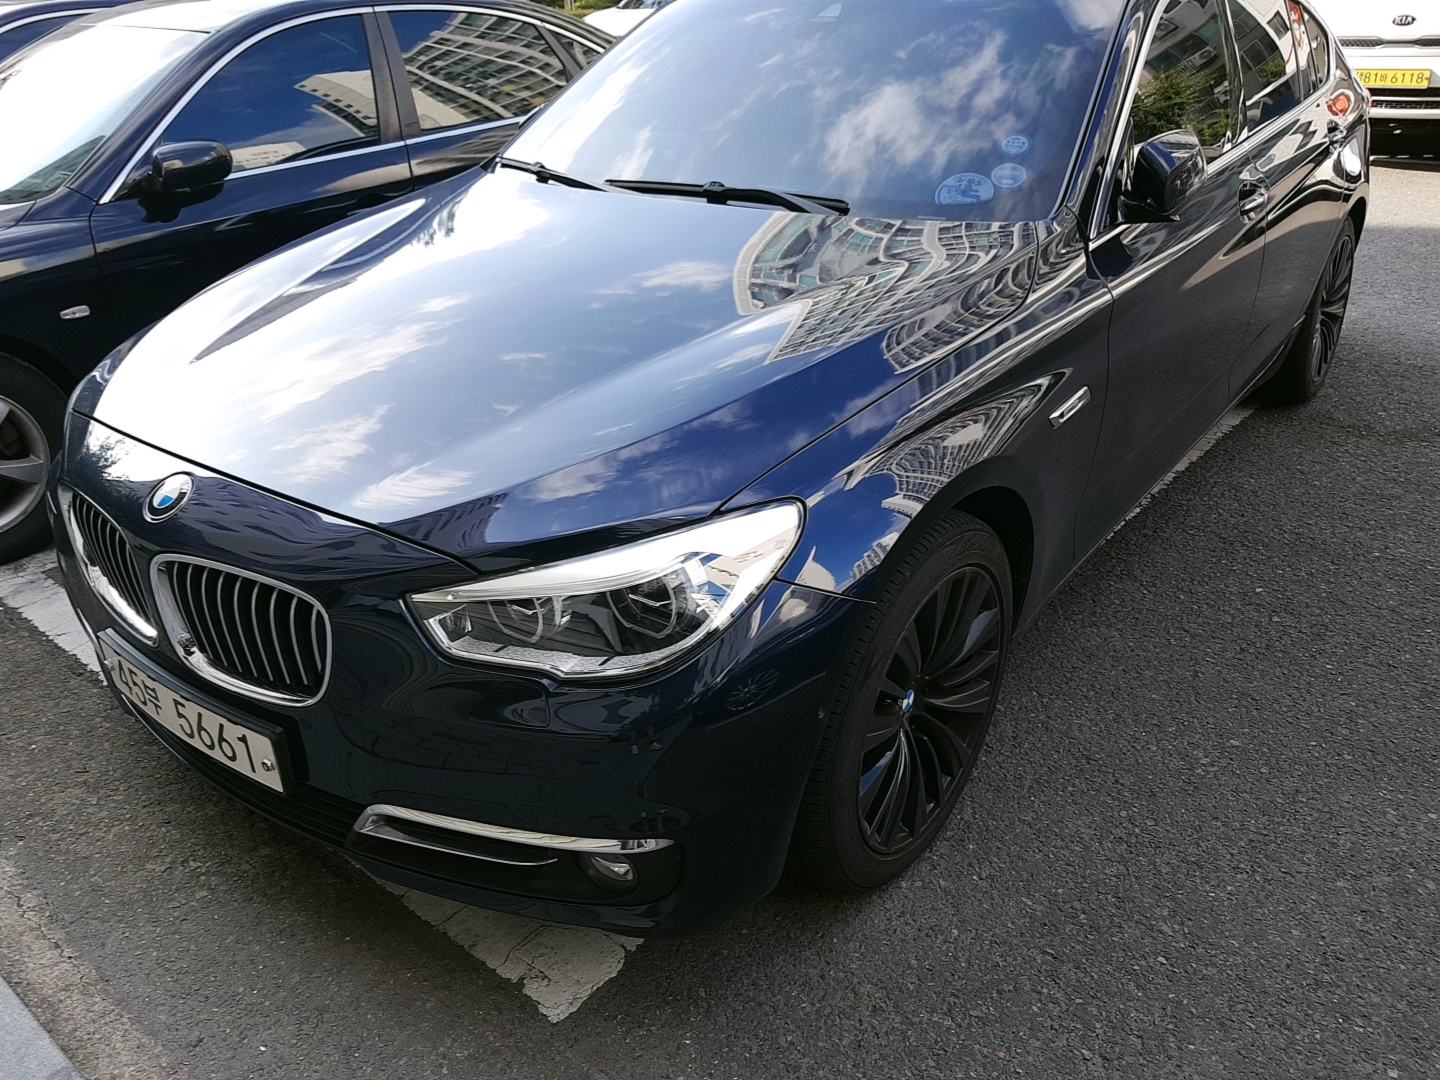disabled_parking: (938, 168, 998, 205)
etc: (991, 158, 1034, 191), (998, 132, 1034, 158)
